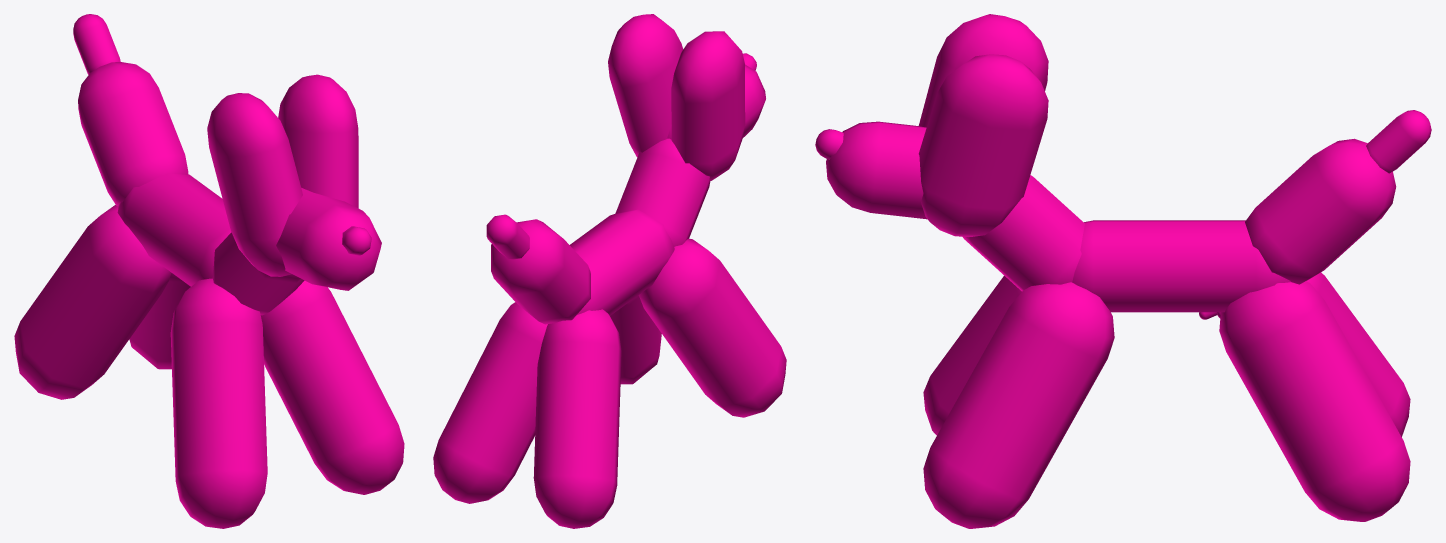
The model's file is KoonsDog.gltf.
3 renders of one model, left to right at view 1: azimuth 30°, elevation 25°; view 2: azimuth 150°, elevation 25°; view 3: azimuth 270°, elevation 25°, orthographic. The views are drawn at different scales.
Visible parts, largest first — view 1: Capsule (×4), ear (×2), tail1, body, snout, neck, tail2, nose; view 2: Capsule (×4), ear (×2), body, tail1, neck, tail2, snout; view 3: Capsule (×4), ear (×2), body, tail1, snout, neck, tail2.
Boxes of the visible parts, <box> form: Capsule (×4): <box>14,205,404,528</box>; ear (×2): <box>207,74,358,276</box>; tail1: <box>78,62,188,206</box>; body: <box>117,173,231,286</box>; snout: <box>276,188,381,290</box>; neck: <box>212,232,304,315</box>; tail2: <box>73,14,120,74</box>; nose: <box>342,226,371,255</box>; Capsule (×4): <box>433,238,786,528</box>; ear (×2): <box>608,14,745,180</box>; body: <box>570,209,674,315</box>; tail1: <box>491,219,590,324</box>; neck: <box>615,138,710,246</box>; tail2: <box>486,214,529,259</box>; snout: <box>667,64,765,139</box>; Capsule (×4): <box>923,272,1410,528</box>; ear (×2): <box>918,14,1048,237</box>; body: <box>1072,220,1290,312</box>; tail1: <box>1245,138,1396,284</box>; snout: <box>826,121,926,219</box>; neck: <box>962,175,1084,291</box>; tail2: <box>1366,110,1431,173</box>.
Bounding box in the file's own units: 3.34 × 6.11 × 7.58.
